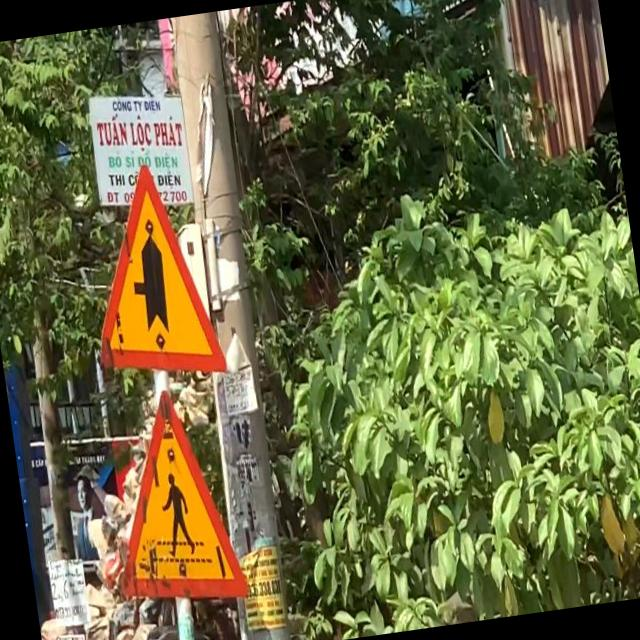W-207c: (74, 151, 230, 389)
W-224: (89, 378, 249, 616)
